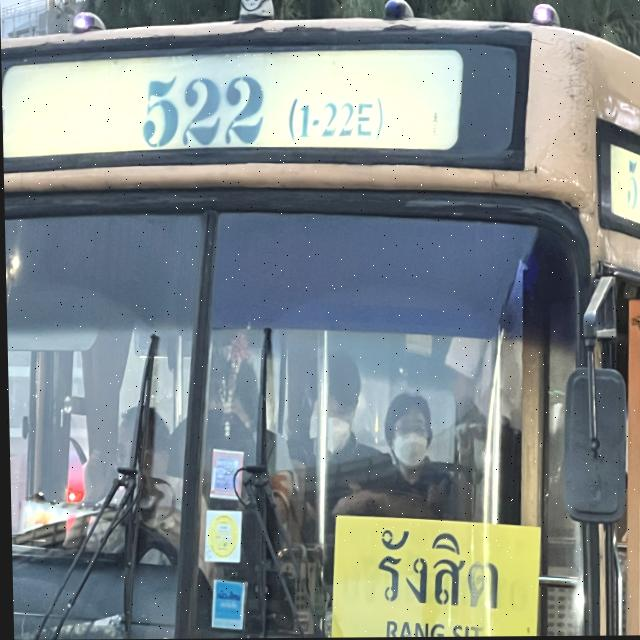BMTA-bus: (0, 0, 640, 640)
Bus-Line-Number: (122, 53, 390, 164)
Destination-Sign-Normal-Expressway: (327, 516, 541, 638)
